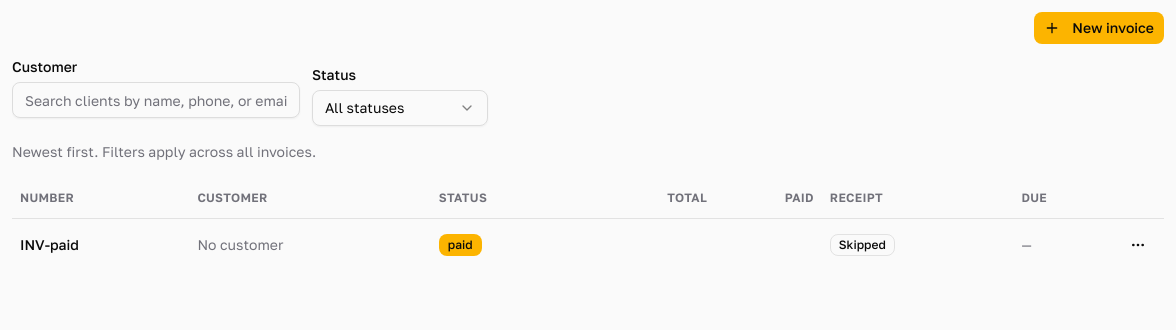
invoice row actions › keeps a paid invoice's money immutable but still annotatable
The width and height of the screenshot is (1176, 330).
Click the button named "Actions" at (1138, 244), box [1120, 226, 1156, 262]
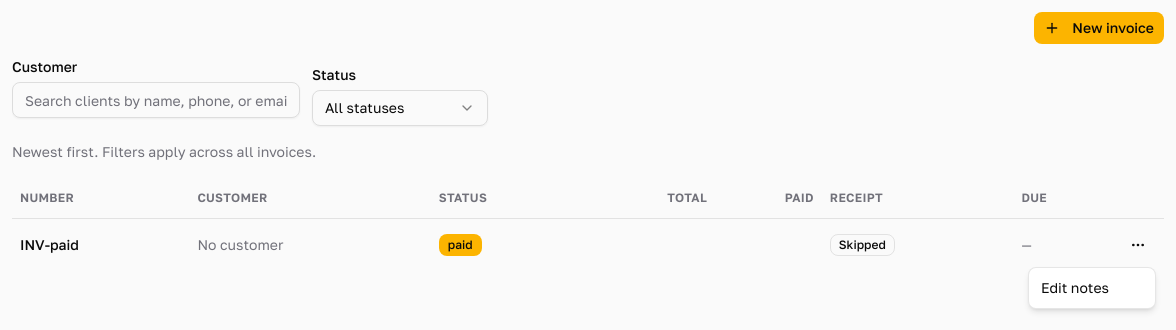
expect the menu item "Edit notes" is shown: met, box [1041, 279, 1109, 296]
